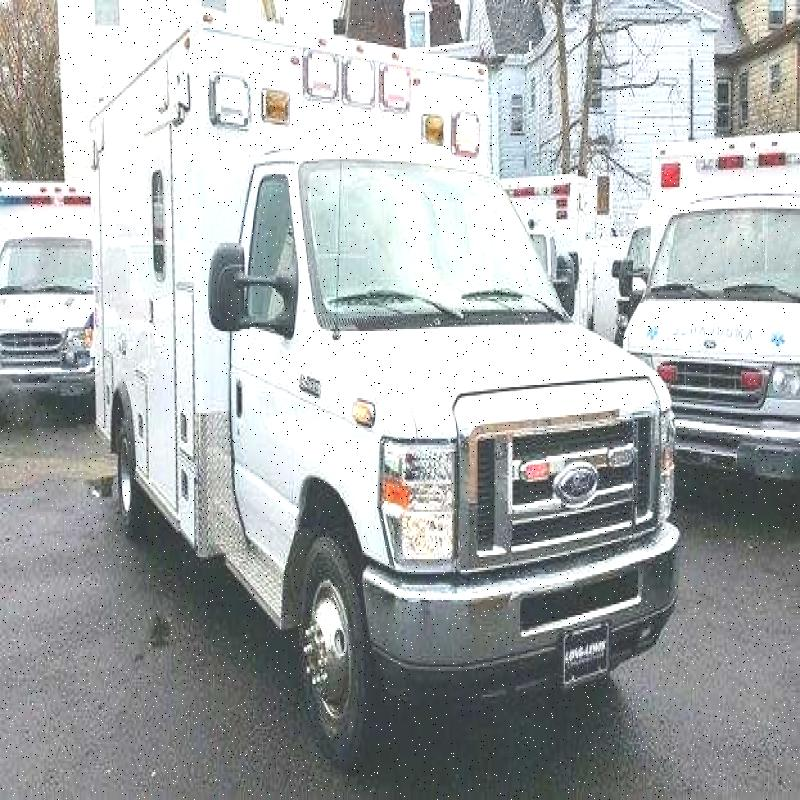AmbulanceSiren: (209, 18, 481, 151)
